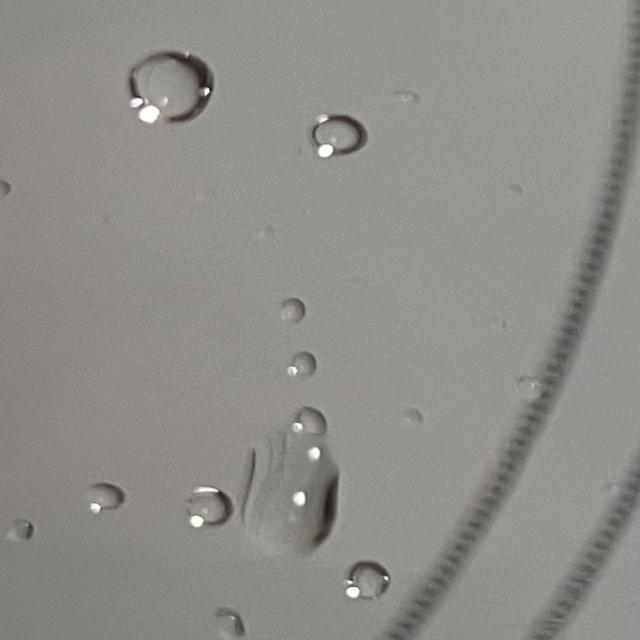raindrop: (242, 438, 360, 556), (95, 46, 233, 132), (302, 554, 417, 606), (168, 487, 248, 542), (301, 102, 355, 163), (193, 604, 257, 640), (276, 283, 328, 324), (272, 340, 324, 380), (0, 517, 52, 557), (75, 479, 116, 520), (288, 402, 329, 441)
